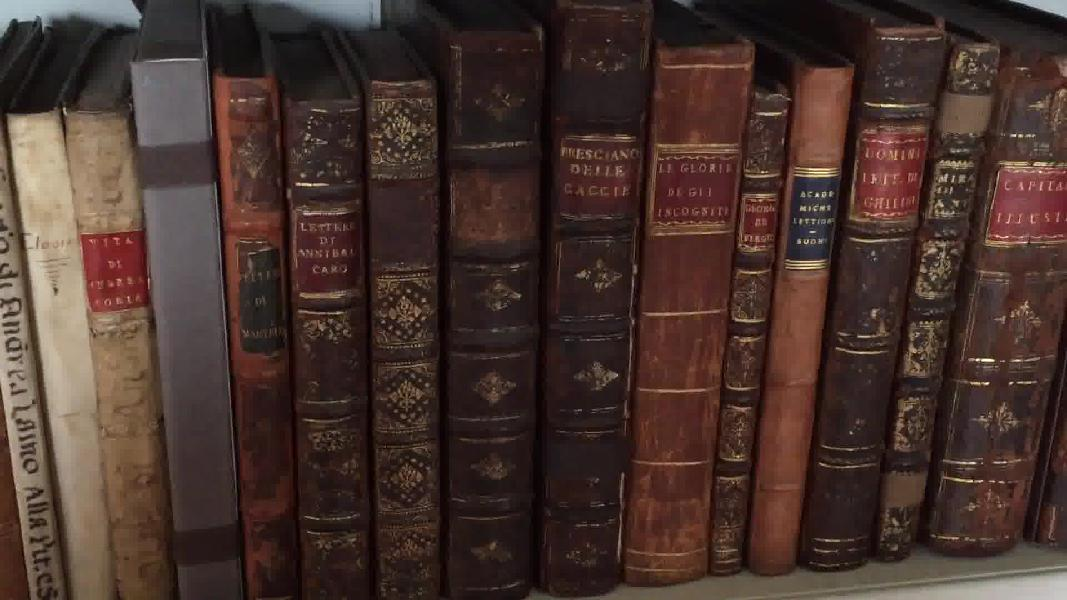Aa6-25: (5, 98, 120, 600)
Aa6-26: (52, 97, 189, 594)
Aa6-27: (124, 38, 235, 600)
Aa6-28: (211, 62, 308, 598)
Aa6-29: (273, 82, 376, 600)
Aa6-30: (363, 63, 445, 600)
Aa6-31: (438, 20, 549, 600)
Aa6-32: (552, 2, 657, 600)
Aa6-33: (624, 15, 756, 588)
Aa6-34: (702, 42, 773, 600)
Aa6-35: (748, 23, 854, 589)
Aa6-36: (801, 16, 950, 571)
Aa6-37: (875, 24, 990, 567)
Aa6-38: (927, 31, 1067, 558)
